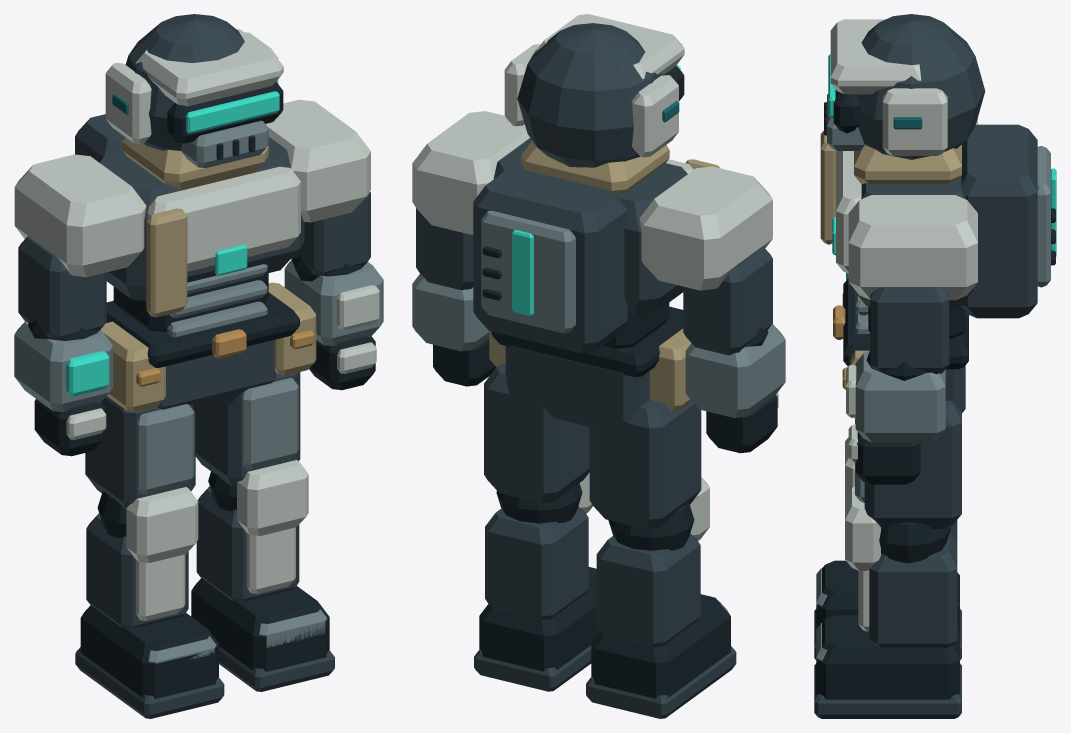
The model's file is HeroOperator.obj.
3 renders of one model, left to right at view 1: azimuth 30°, elevation 25°; view 2: azimuth 150°, elevation 25°; view 3: azimuth 270°, elevation 25°, orthographic.
Size of the model in its own units: 1.09 by 2 by 0.673.
